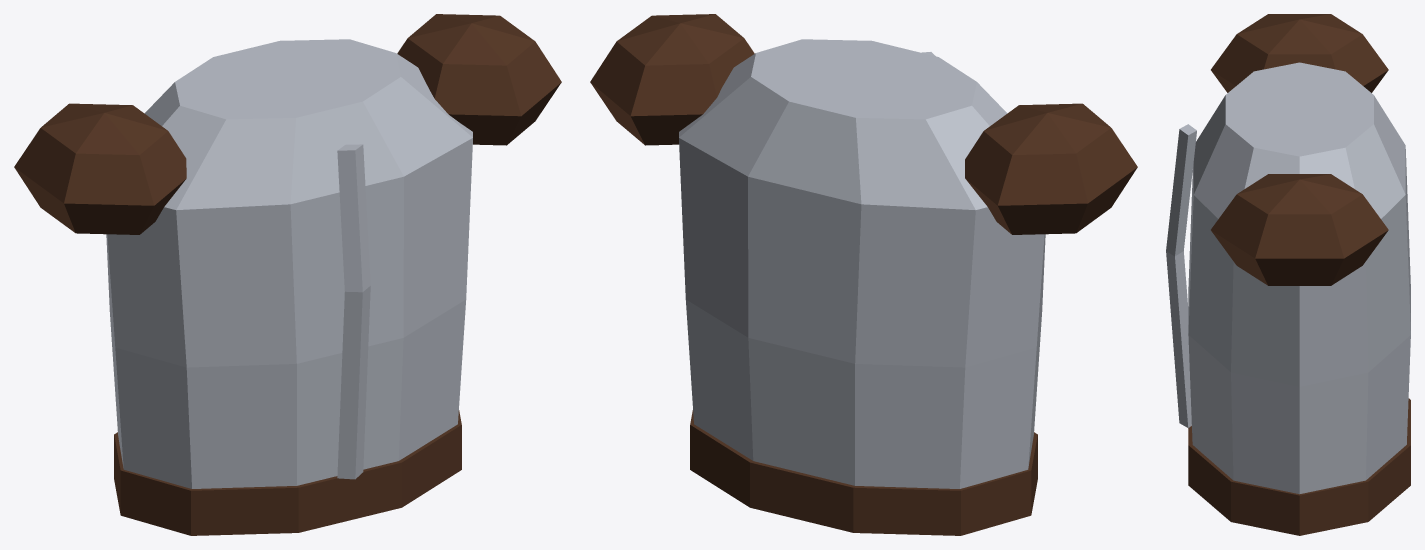
File: armor_chest.glb
3 renders of one model, left to right at view 1: azimuth 30°, elevation 25°; view 2: azimuth 150°, elevation 25°; view 3: azimuth 270°, elevation 25°, orthographic. The views are drawn at different scales.
Parts seen in each view (by area): view 1: armor_chest; view 2: armor_chest; view 3: armor_chest.
Boxes of the visible parts, x1,y1,x2,y2 form: armor_chest: [14, 14, 561, 535]; armor_chest: [590, 14, 1137, 535]; armor_chest: [1166, 14, 1410, 535].
Bounding box in the file's own units: 0.4612 × 0.36 × 0.2199.
